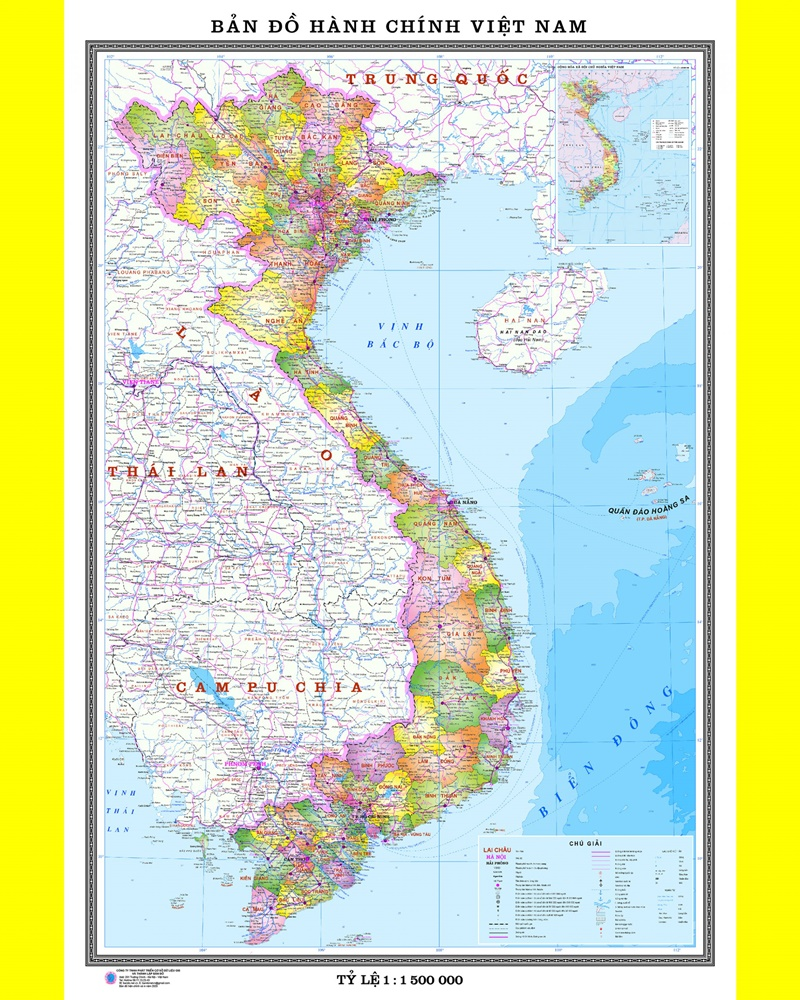Island: (591, 415, 695, 533)
